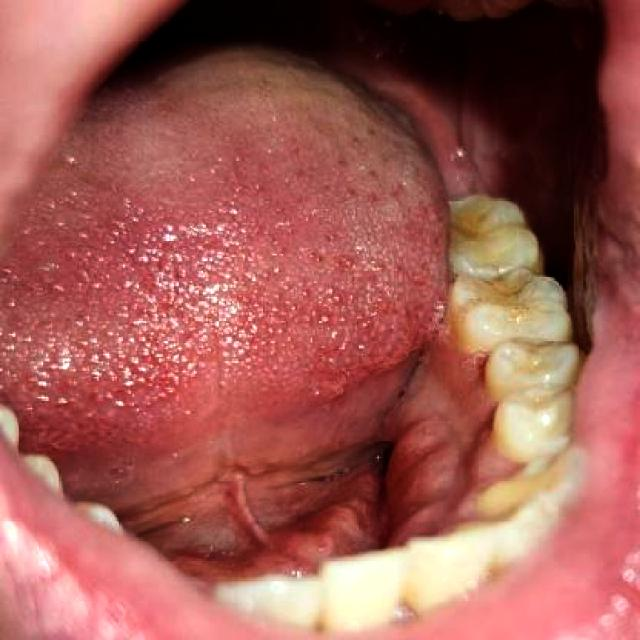Plaque: (435, 338, 497, 399), (458, 263, 542, 305)
